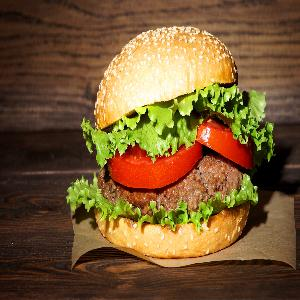cheeseburger: (72, 24, 269, 263)
